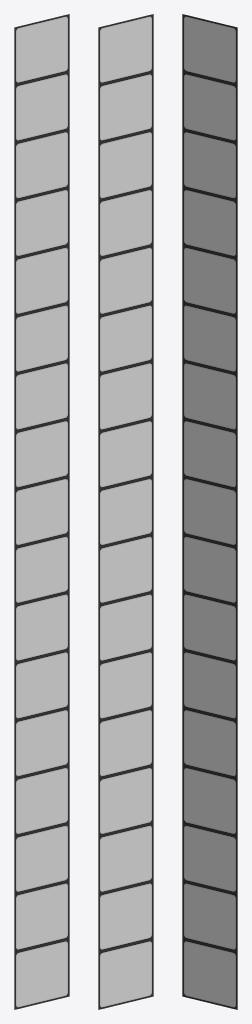
3 views of the same model, side by side, from view 1: azimuth 30°, elevation 25°; view 2: azimuth 210°, elevation 25°; view 3: azimuth 330°, elevation 25° (orthographic).
Visible parts, largest first — view 1: grid_line; view 2: grid_line; view 3: grid_line.
Part boxes in pixels (x1=…): grid_line: x1=14, y1=14, x2=69, y2=1009; grid_line: x1=98, y1=14, x2=153, y2=1009; grid_line: x1=182, y1=14, x2=237, y2=1009.
Bounding box in the file's own units: 100 × 1700 × 1.22e-14.
Materials: 1 (1 with a texture image).
